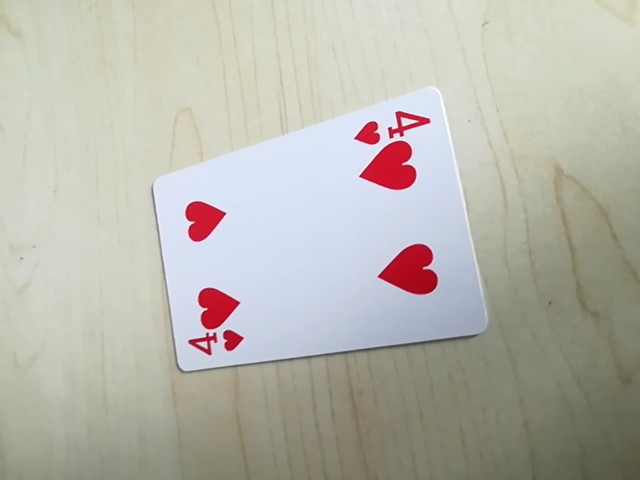hx 4: (352, 103, 435, 145), (183, 327, 250, 364)
